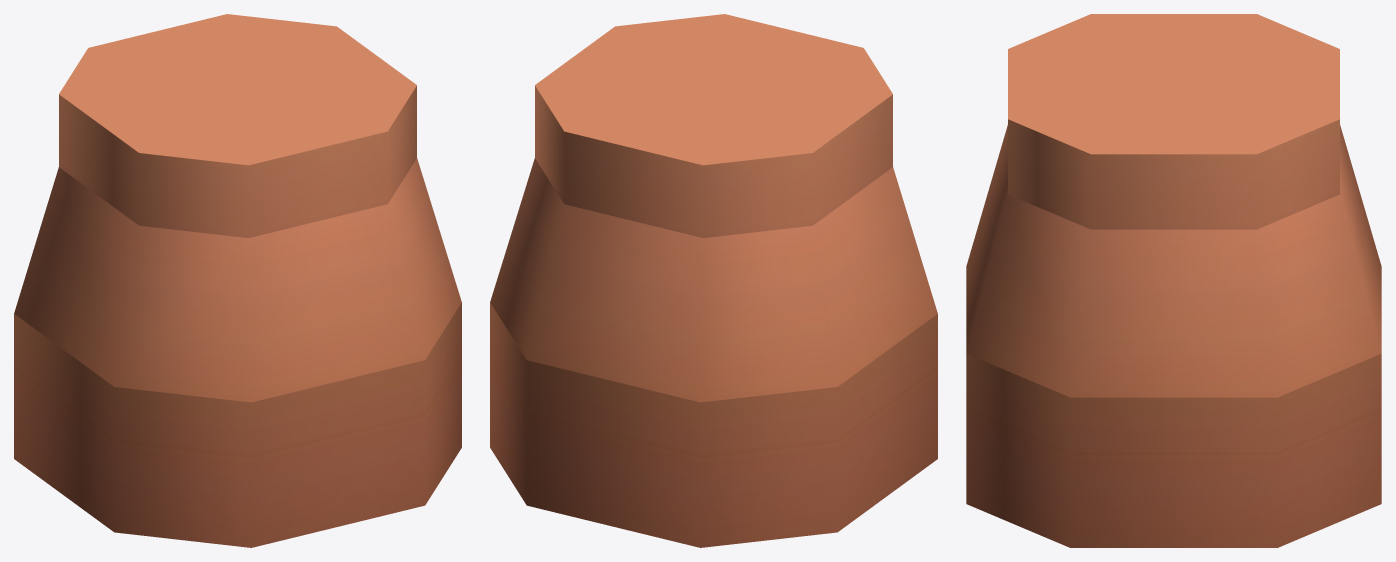
Rendered from support-low-bottom.glb.
The picture shows the model from 3 angles, left to right: view 1: azimuth 30°, elevation 25°; view 2: azimuth 150°, elevation 25°; view 3: azimuth 270°, elevation 25°; orthographic projection. The views are drawn at different scales.
Parts seen in each view (by area): view 1: support-low-bottom; view 2: support-low-bottom; view 3: support-low-bottom.
Boxes of the visible parts, <box> form: support-low-bottom: <box>14,14,461,547</box>; support-low-bottom: <box>490,14,937,547</box>; support-low-bottom: <box>966,14,1381,547</box>.
Size of the model in its own units: 0.5 by 0.5 by 0.5.
Materials: 1 (1 with a texture image).
